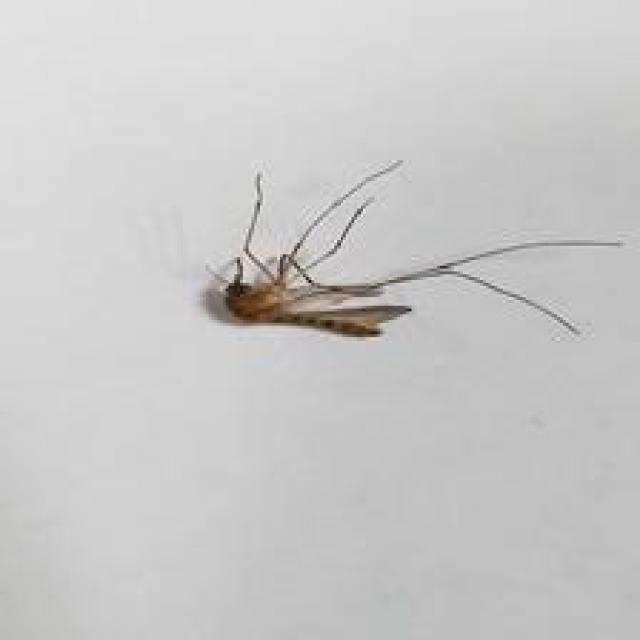Culex: (203, 157, 626, 340)
